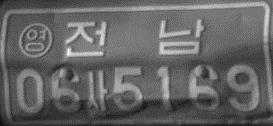0: (15, 65, 45, 115)
1: (149, 64, 179, 113)
5: (112, 65, 143, 112)
6: (187, 63, 220, 112), (49, 66, 80, 114)
9: (225, 64, 259, 113)
사: (84, 69, 109, 111)
영: (17, 21, 53, 58)
전남_D: (64, 18, 205, 57)
